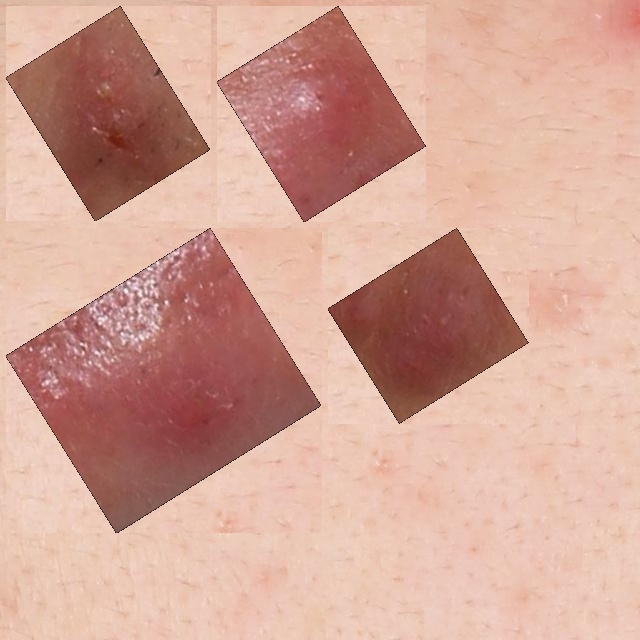nodule: (17, 239, 310, 522), (228, 17, 415, 211), (17, 17, 199, 210), (339, 239, 517, 412)
